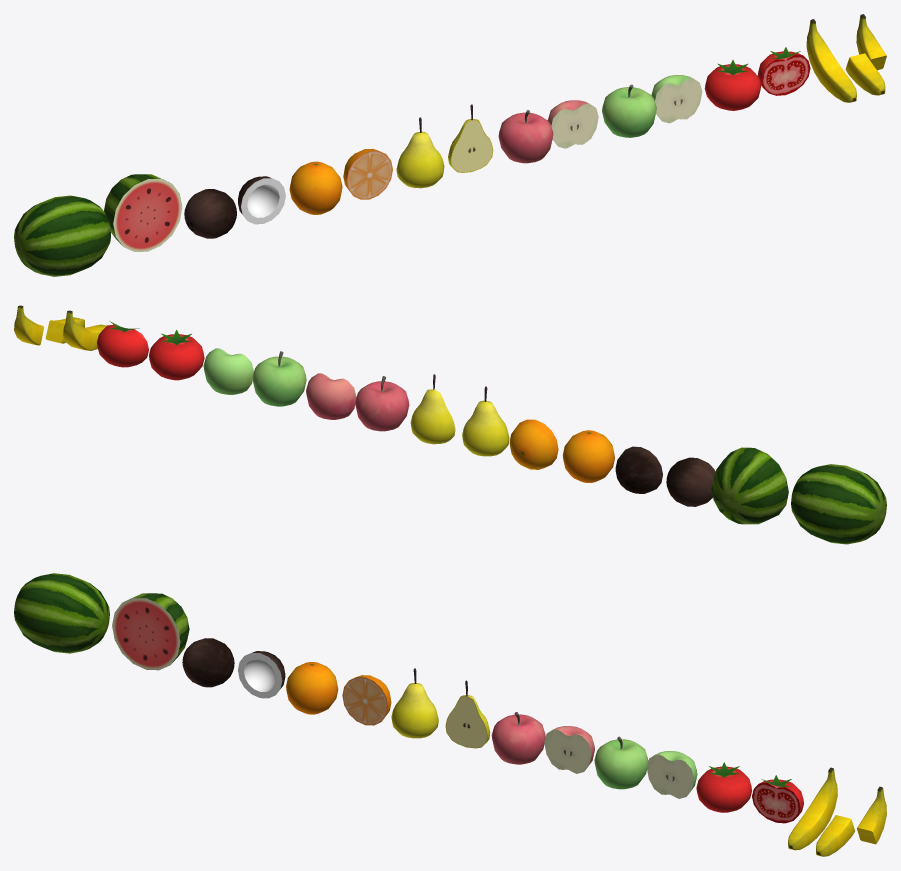
The model's file is Fruits.fbx.
3 renders of one model, top to bottom at view 1: azimuth 30°, elevation 25°; view 2: azimuth 150°, elevation 25°; view 3: azimuth 330°, elevation 25°, orthographic.
Parts seen in each view (by area): view 1: Watermelon, WatermelonSlice, RedApple, GreenApple, Orange, Tomato, Coconut, Pear, OrangeSlice, GreenAppleSlice, RedAppleSlice, TomatoSlice (+5 smaller); view 2: Watermelon, WatermelonSlice, RedApple, GreenApple, Orange, Tomato, Pear, OrangeSlice, Coconut, RedAppleSlice, GreenAppleSlice, PearSlice (+4 smaller); view 3: Watermelon, WatermelonSlice, RedApple, GreenApple, Orange, Tomato, Coconut, Pear, OrangeSlice, GreenAppleSlice, RedAppleSlice, TomatoSlice (+5 smaller).
Boxes of the visible parts, x1,y1,x2,y2 form: Watermelon: (14,195,110,276); WatermelonSlice: (104,174,182,251); RedApple: (498,110,553,163); GreenApple: (602,84,656,137); Orange: (289,161,342,214); Tomato: (704,60,761,110); Coconut: (184,189,236,238); Pear: (396,117,444,188); OrangeSlice: (343,148,392,199); GreenAppleSlice: (651,75,702,123); RedAppleSlice: (547,100,598,148); TomatoSlice: (757,47,810,95); Watermelon: (791,464,886,544); WatermelonSlice: (711,447,788,524); RedApple: (355,376,409,431); GreenApple: (252,351,306,406); Orange: (562,430,614,482); Tomato: (149,330,204,380); Pear: (462,386,509,456); OrangeSlice: (509,419,558,469); Coconut: (666,457,715,506); RedAppleSlice: (306,373,356,419); GreenAppleSlice: (203,348,253,394); PearSlice: (410,374,455,444); Watermelon: (14,573,109,653); WatermelonSlice: (112,593,189,670); RedApple: (491,712,545,764); GreenApple: (594,736,648,789); Orange: (286,662,338,714); Tomato: (696,762,751,812); Coconut: (182,638,234,687); Pear: (391,668,438,738); OrangeSlice: (342,675,391,725); GreenAppleSlice: (646,751,697,798); RedAppleSlice: (544,726,594,773); TomatoSlice: (752,775,803,823).
Size of the model in its own units: 2340 by 192 by 245.
